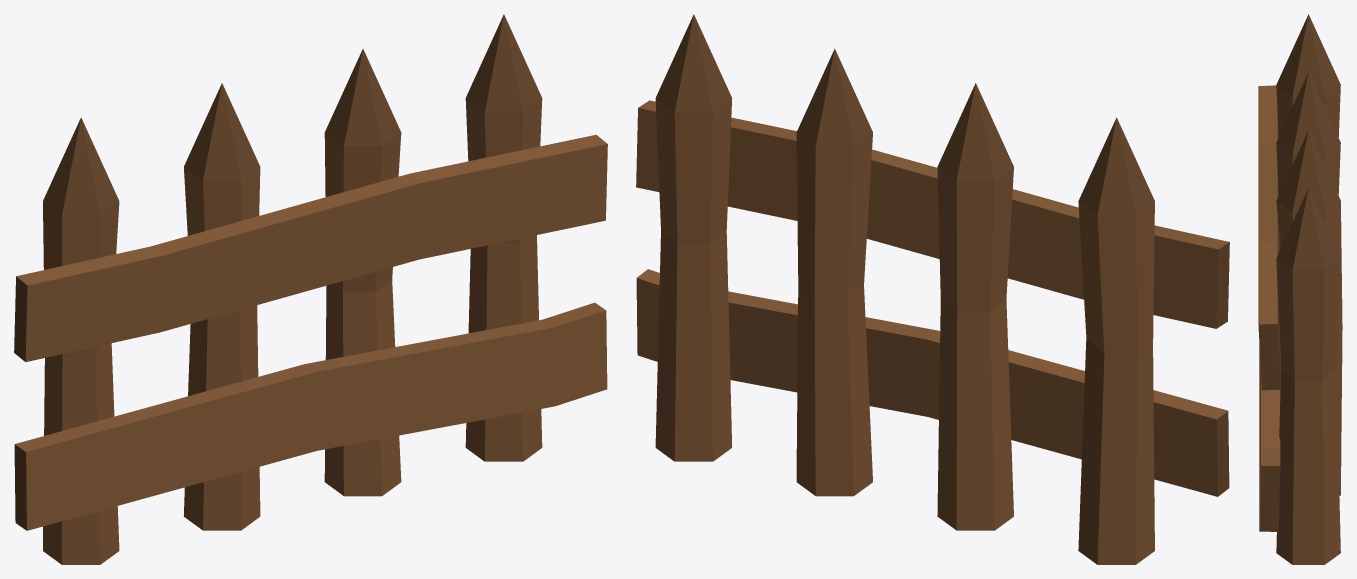
File: Fence_9_Light_Brown.fbx
3 views of the same model, side by side, from view 1: azimuth 30°, elevation 25°; view 2: azimuth 150°, elevation 25°; view 3: azimuth 270°, elevation 25° (orthographic). The views are drawn at different scales.
Visible parts, largest first — view 1: Fence_9_Light_Brown; view 2: Fence_9_Light_Brown; view 3: Fence_9_Light_Brown.
Boxes of the visible parts, box(x1,y1,x2,y2) form: Fence_9_Light_Brown: box(14, 14, 607, 564); Fence_9_Light_Brown: box(636, 14, 1229, 564); Fence_9_Light_Brown: box(1258, 14, 1342, 564).
Bounding box in the file's own units: 140 × 100 × 20.85.
